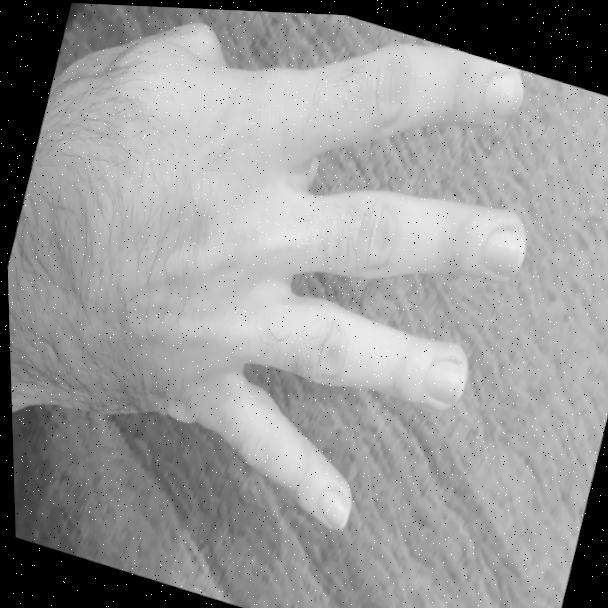four: (0, 0, 573, 570)
